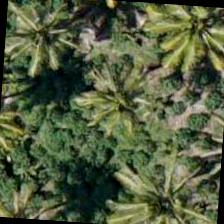Kelapa_Sawit: (66, 56, 162, 152), (2, 0, 88, 84), (114, 161, 210, 223)
